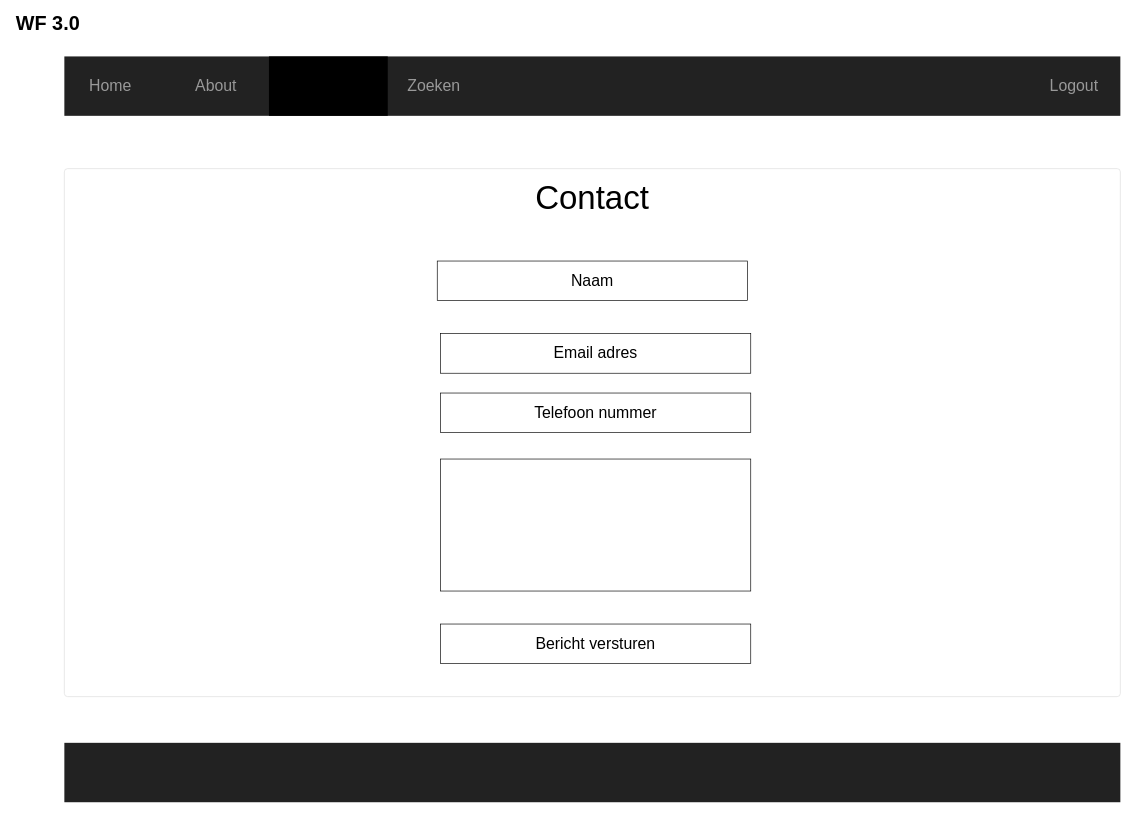
The diagram is 1132 pixels wide and 813 high, and some of its shapes have lost their labels. Here are the shapes that lost their labels. From the top down, the centre of each, then its label:
At pixel 328 86: "Contact".
At pixel 595 524: "Bericht".
At pixel 592 772: "Footer tekst".
